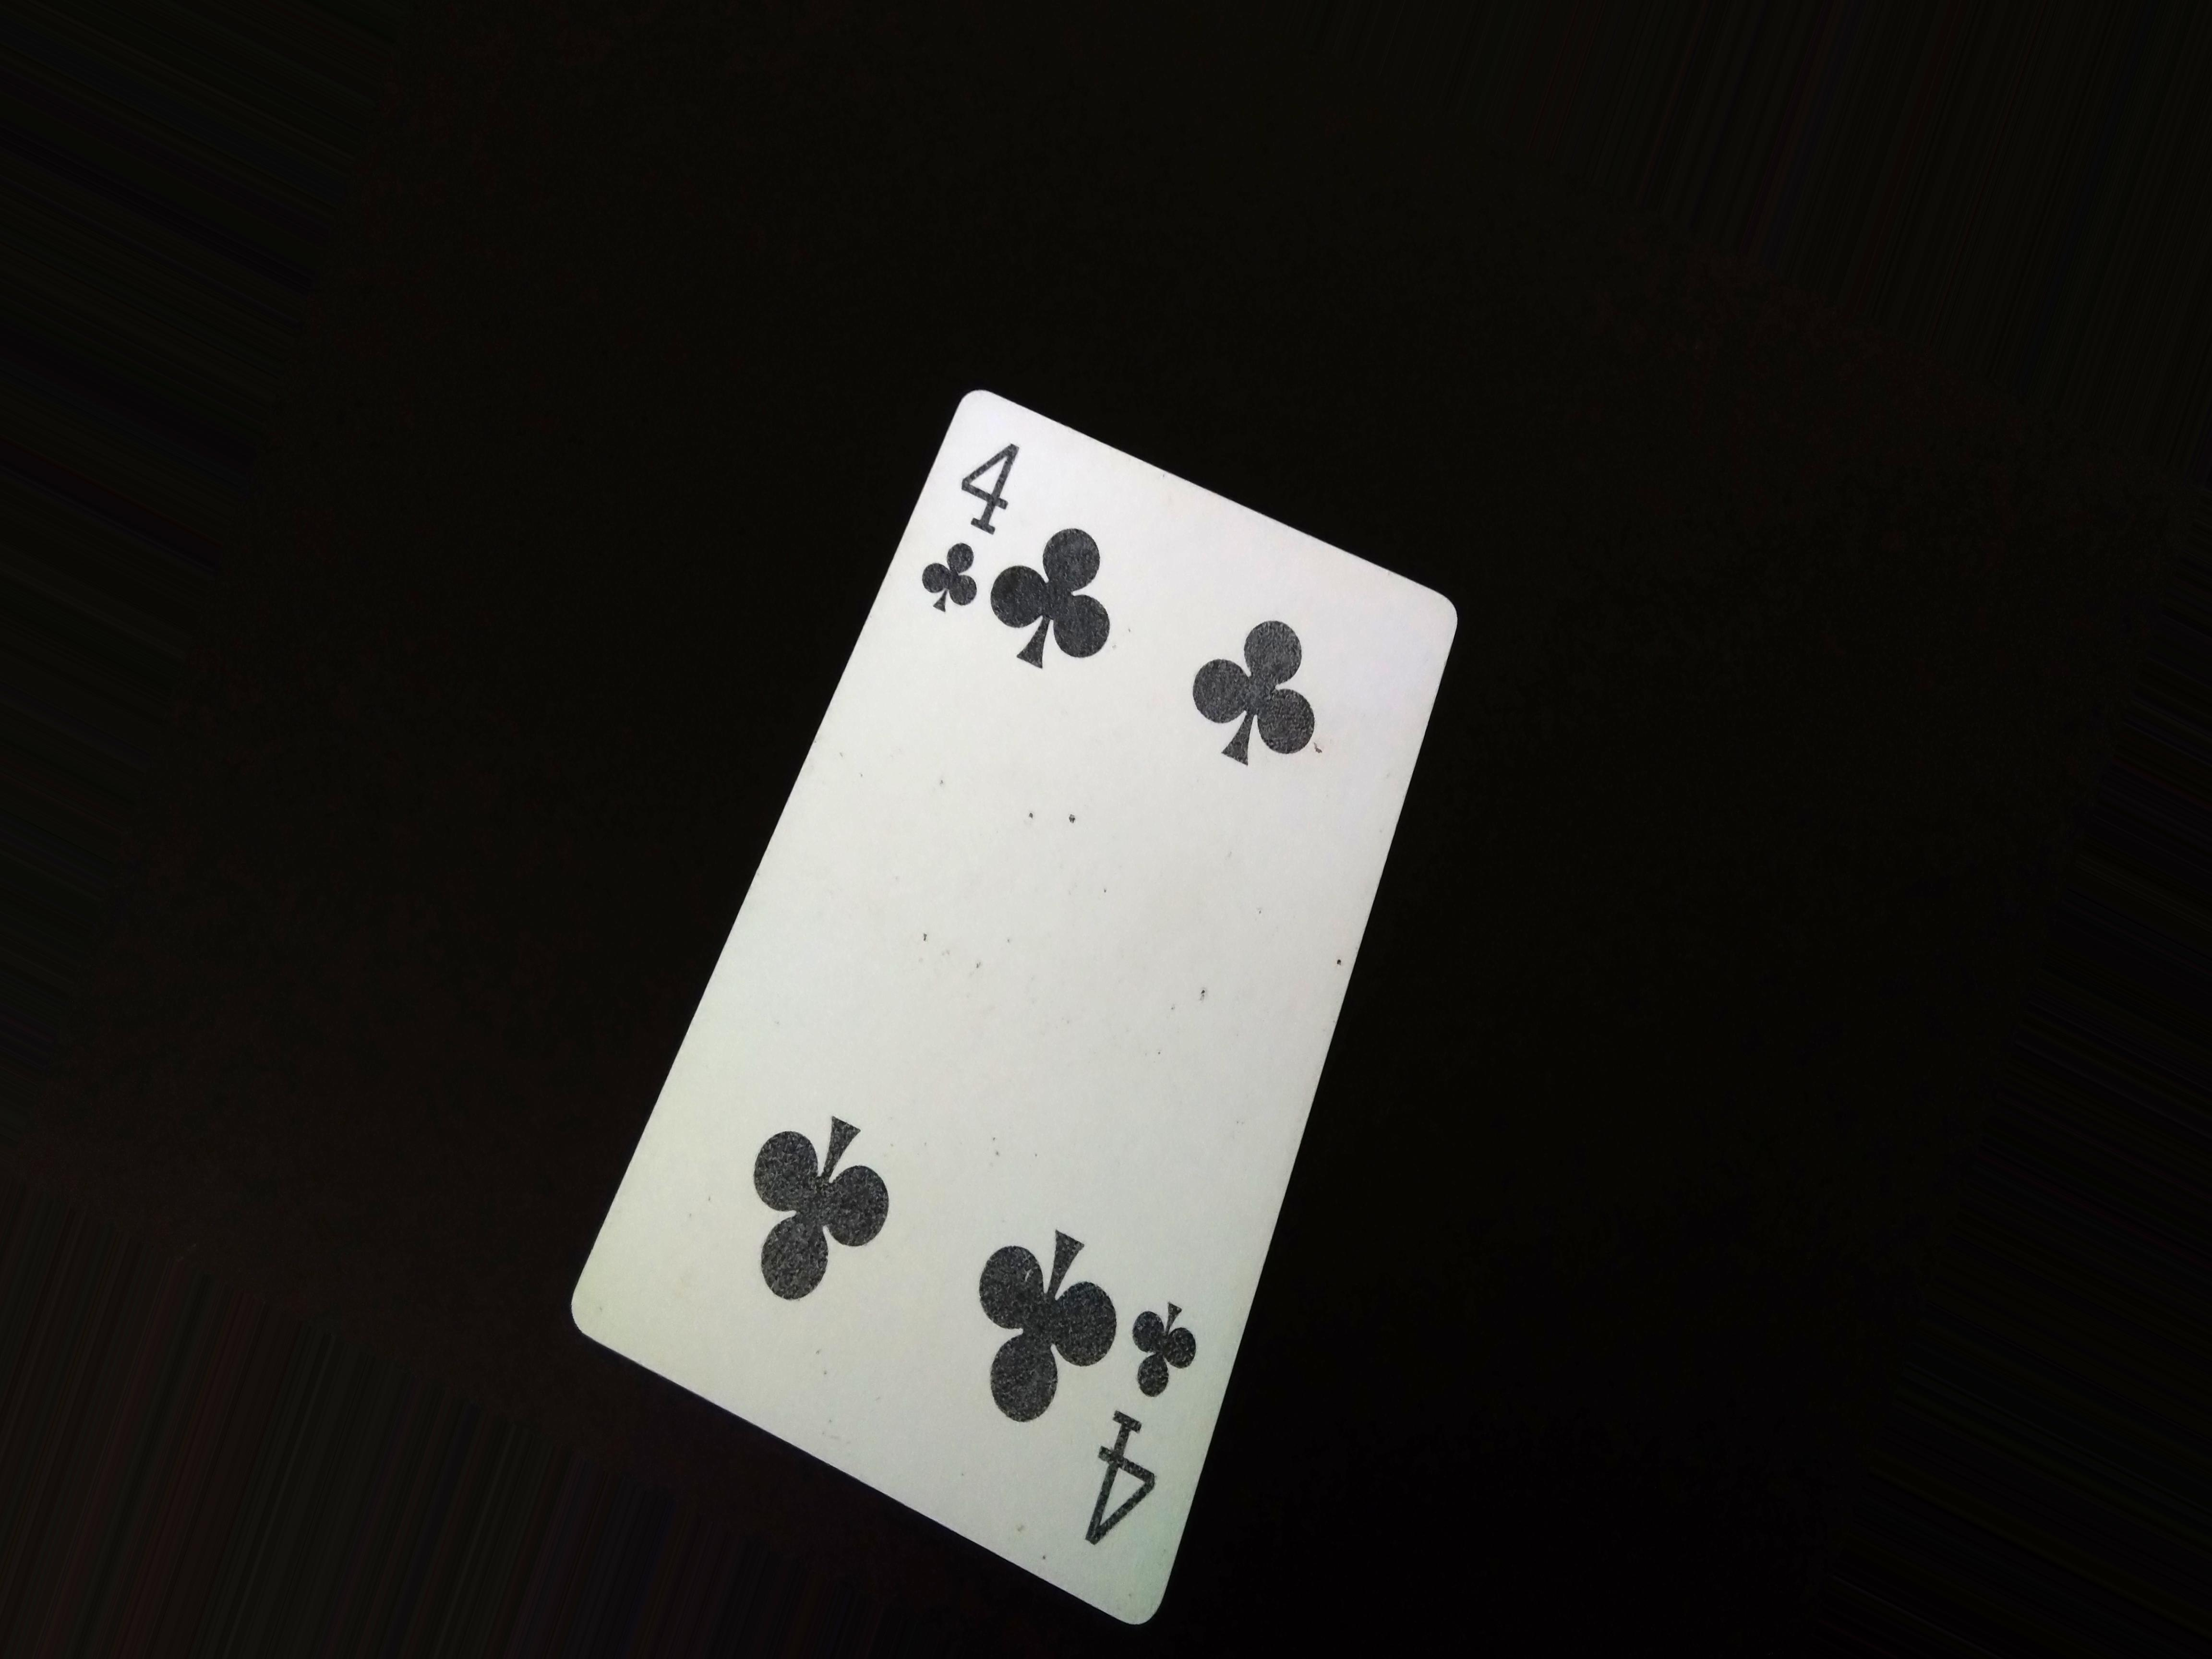4C: (1071, 1297, 1228, 1586)
